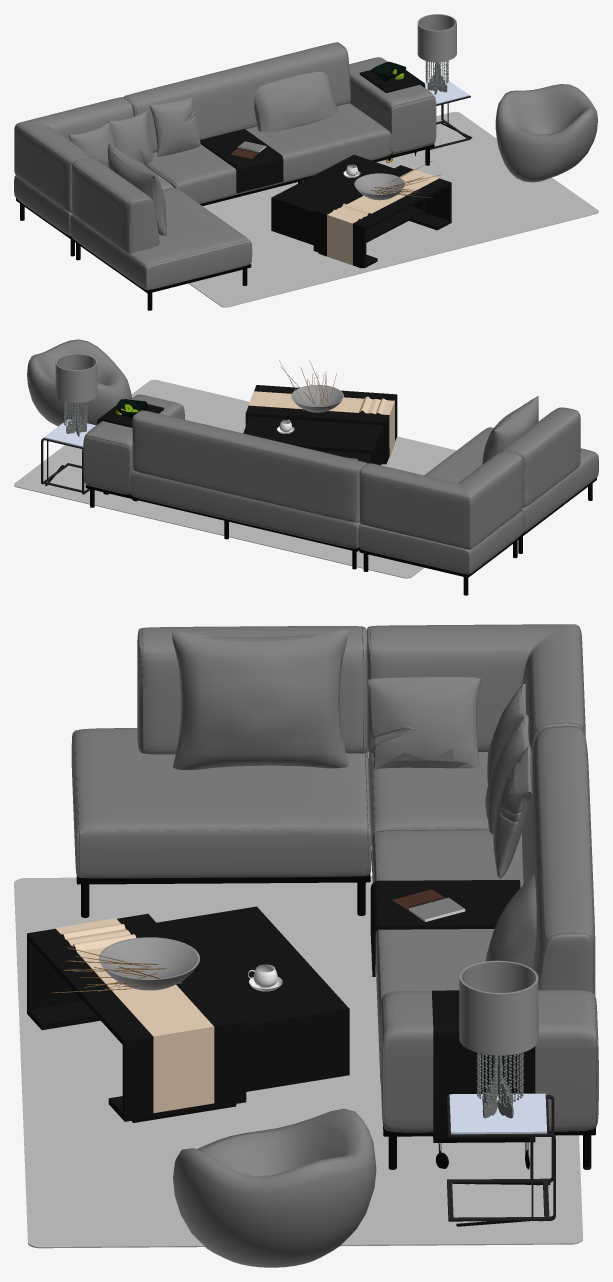
The picture shows the model from 3 angles, top to bottom: view 1: azimuth 30°, elevation 25°; view 2: azimuth 150°, elevation 25°; view 3: azimuth 270°, elevation 25°; orthographic projection. The views are drawn at different scales.
Visible parts, largest first — view 1: Box01, Rectangle23, Rectangle1, Line14, 沙发靠垫（, Rectangle0, Line19, 3D学院 模型无限, bruehl_m05, Samti_46, bruehl_m04, 装饰盘 (+6 smaller); view 2: Box01, Rectangle23, Rectangle1, Line14, Samti_46, Line19, 3D学院 模型无限, 装饰盘, Box09, obj_1667, obj_1670, Box10 (+2 smaller); view 3: Box01, Rectangle23, 3D学院 模型无限, Rectangle1, Line14, Line19, bruehl_m08, Samti_46, Rectangle02, Rectangle0, 装饰盘, obj_1667 (+6 smaller).
Boxes of the visible parts, x1,y1,x2,y2 form: Box01: (14, 42, 597, 290); Rectangle23: (188, 111, 598, 307); Rectangle1: (271, 154, 425, 245); Line14: (313, 165, 451, 268); 沙发靠垫（: (254, 72, 338, 132); Rectangle0: (200, 129, 283, 193); Line19: (327, 169, 439, 265); 3D学院 模型无限: (20, 141, 429, 310); bruehl_m05: (149, 97, 200, 156); Samti_46: (417, 14, 456, 62); bruehl_m04: (108, 110, 153, 165); 装饰盘: (354, 173, 405, 200); Box01: (27, 339, 598, 574); Rectangle23: (14, 379, 456, 578); Rectangle1: (243, 416, 383, 465); Line14: (245, 385, 397, 464); Samti_46: (55, 353, 97, 402); Line19: (248, 391, 394, 457); 3D学院 模型无限: (90, 396, 592, 595); 装饰盘: (291, 385, 343, 412); Box09: (85, 485, 359, 551); obj_1667: (44, 419, 95, 447); obj_1670: (41, 438, 89, 493); Box10: (359, 535, 521, 577); Box01: (71, 624, 598, 1267); Rectangle23: (14, 875, 582, 1248); 3D学院 模型无限: (81, 629, 591, 1169); Rectangle1: (157, 906, 349, 1091); Line14: (27, 914, 246, 1121); Line19: (55, 918, 214, 1112); bruehl_m08: (367, 677, 481, 775); Samti_46: (459, 960, 538, 1055); Rectangle02: (432, 990, 535, 1142); Rectangle0: (370, 879, 520, 976); 装饰盘: (99, 937, 199, 990); obj_1667: (449, 1093, 546, 1134).
Size of the model in its own units: 122665 by 27005 by 62616.
